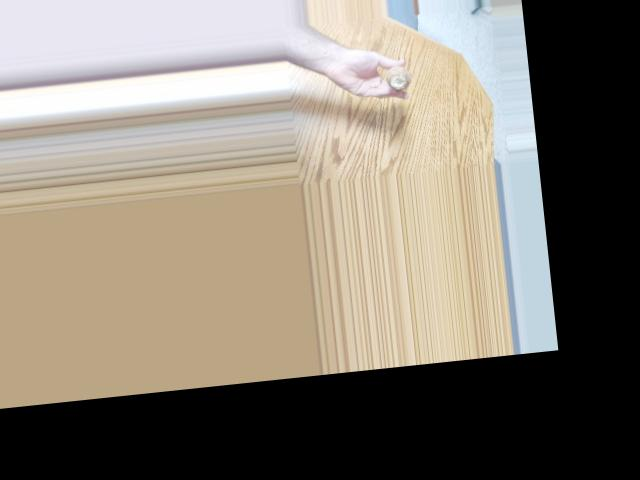sweet_potato: (387, 61, 412, 90)
